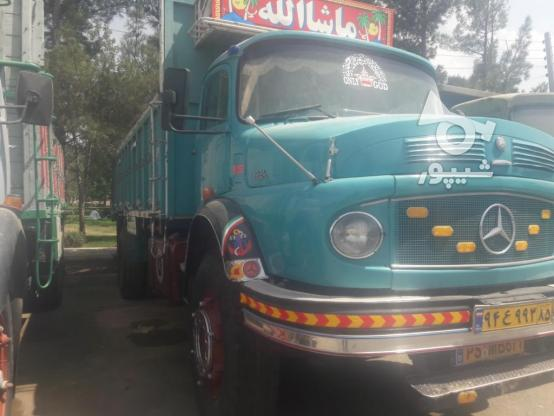car: (474, 303, 553, 332), (454, 337, 530, 366)
